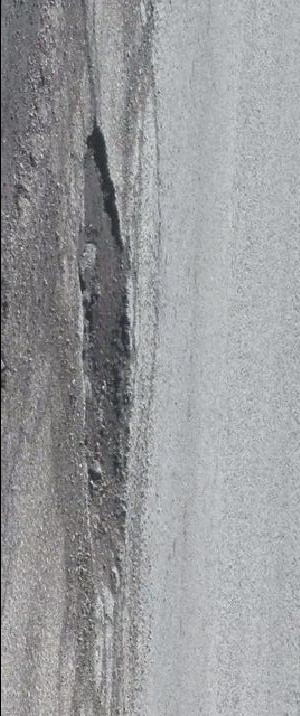pothole: (76, 118, 142, 595)
